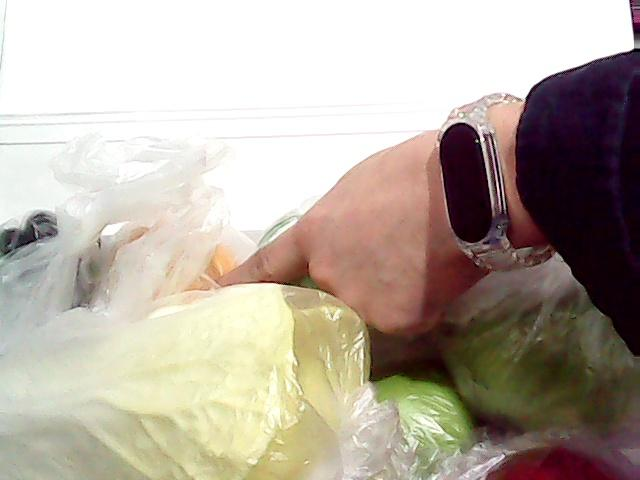apple: (362, 371, 476, 465), (472, 426, 640, 480)
cabbage: (438, 254, 640, 458)
grape: (0, 190, 84, 282)
lemon: (121, 218, 263, 318)
napa cabbage: (0, 279, 364, 480)
radish: (259, 213, 327, 291)
